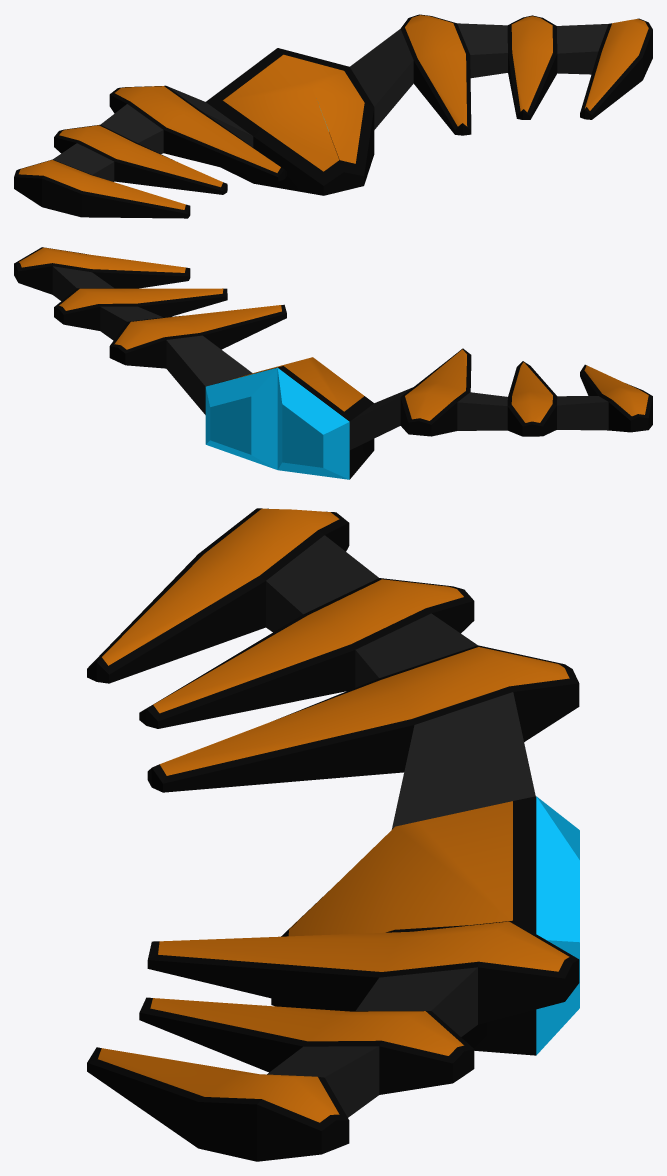
The model's file is EnemyShip2.FBX.
3 renders of one model, top to bottom at view 1: azimuth 30°, elevation 25°; view 2: azimuth 150°, elevation 25°; view 3: azimuth 270°, elevation 25°, orthographic. The views are drawn at different scales.
Parts seen in each view (by area): view 1: Ship002; view 2: Ship002; view 3: Ship002.
Boxes of the visible parts, bbox=[...] form: Ship002: bbox=[14, 14, 652, 218]; Ship002: bbox=[14, 247, 652, 479]; Ship002: bbox=[87, 508, 579, 1161].
Size of the model in its own units: 85.07 by 13.3 by 28.6.
